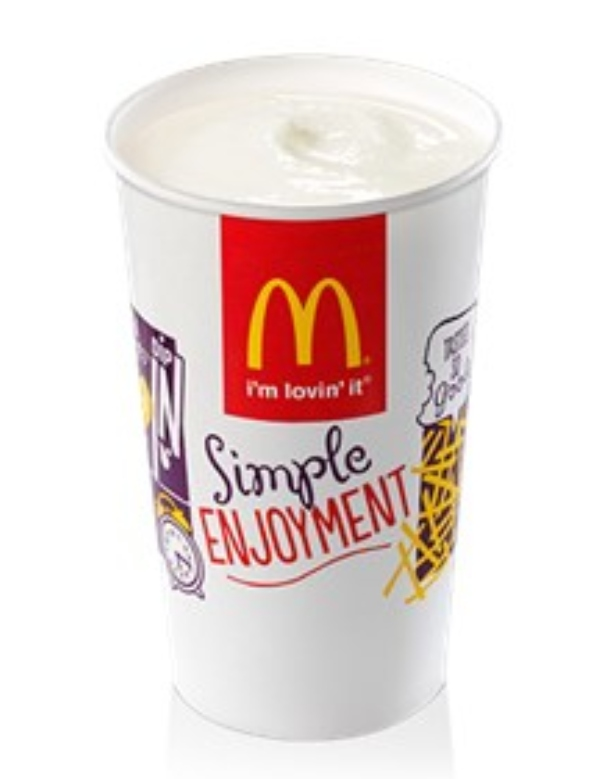mcdonalds: (240, 270, 375, 382)
